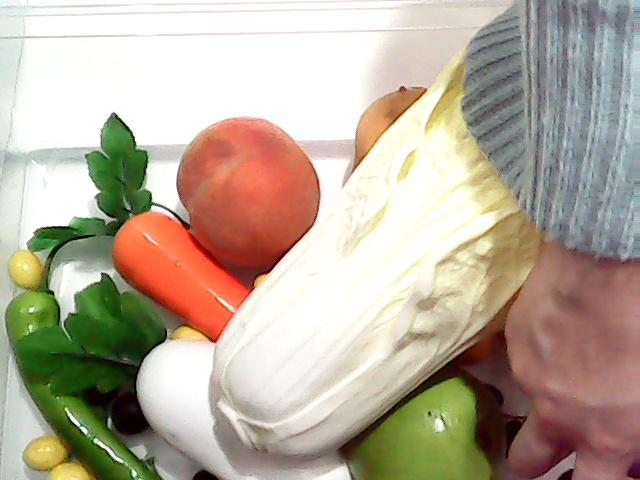apple: (337, 371, 512, 480), (349, 371, 507, 480)
carrot: (28, 110, 254, 342)
napa cabbage: (213, 69, 619, 452)
peach: (176, 118, 324, 270)
pepper: (0, 235, 180, 480)
potato: (352, 86, 426, 174)
radish: (17, 272, 355, 480)
